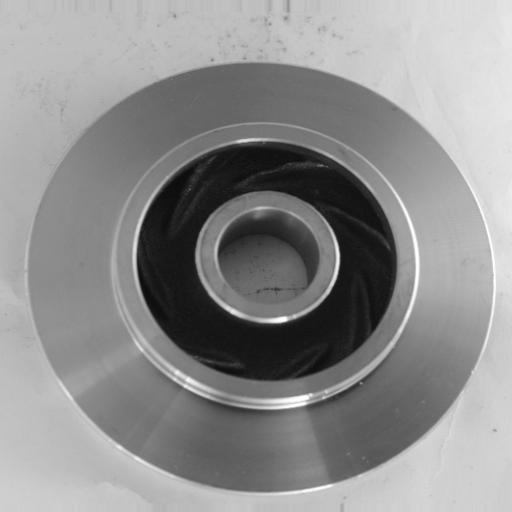polished_casting: (25, 59, 502, 497)
